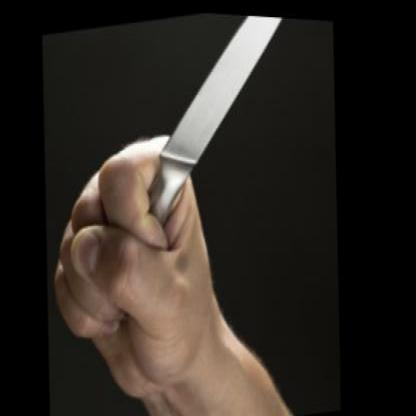knife: (52, 4, 347, 332)
